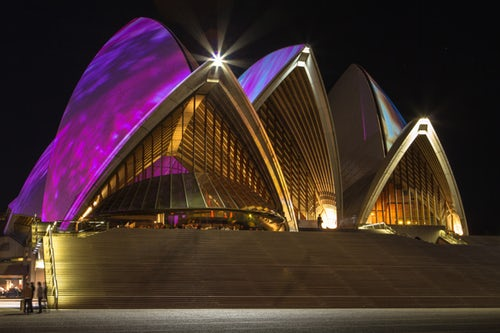opera house: (4, 5, 486, 251)
